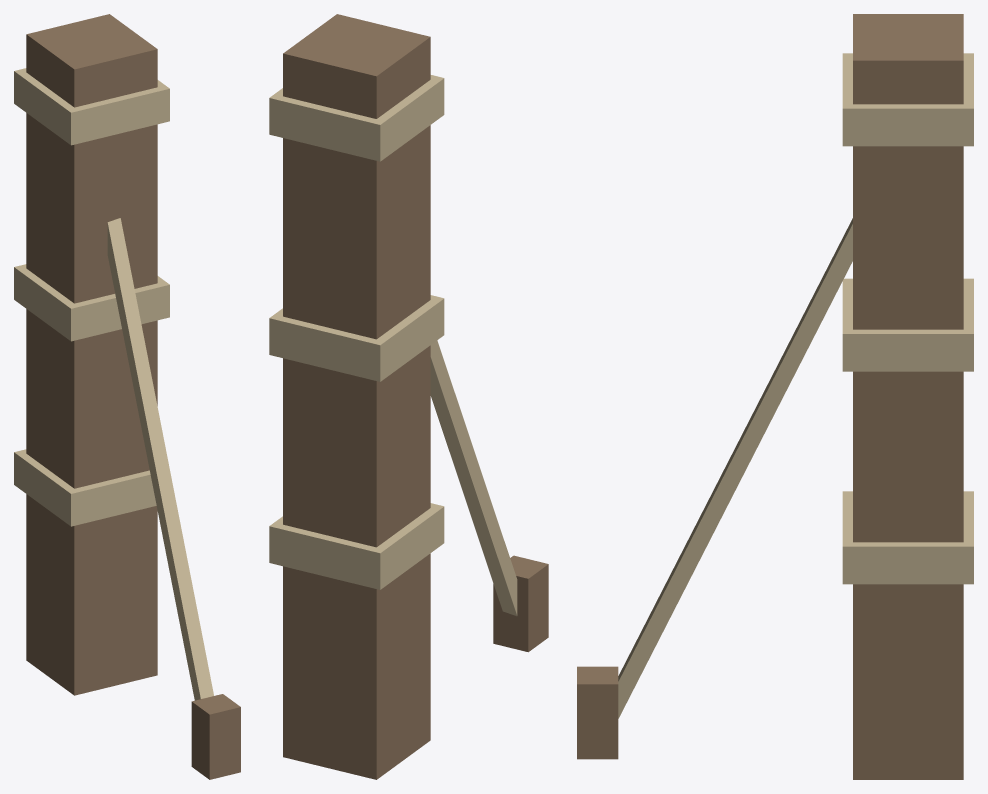
Rendered from bridge-rope-anchor.glb.
3 renders of one model, left to right at view 1: azimuth 30°, elevation 25°; view 2: azimuth 150°, elevation 25°; view 3: azimuth 270°, elevation 25°, orthographic. The views are drawn at different scales.
Parts seen in each view (by area): view 1: bridge-rope-anchor; view 2: bridge-rope-anchor; view 3: bridge-rope-anchor.
Part boxes in pixels (left/top/right/bottom): bridge-rope-anchor: left=14, top=14, right=240, bottom=779; bridge-rope-anchor: left=269, top=14, right=548, bottom=779; bridge-rope-anchor: left=577, top=14, right=973, bottom=779.
Size of the model in its own units: 0.19 by 1.15 by 0.575.
